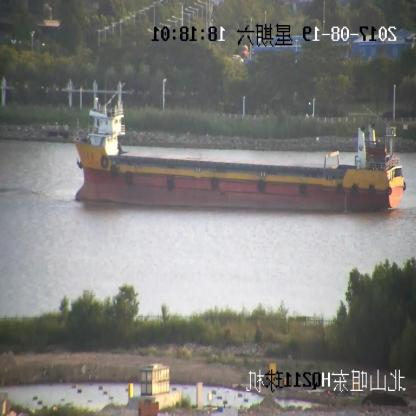Bulk Carrier: (76, 88, 400, 211)
